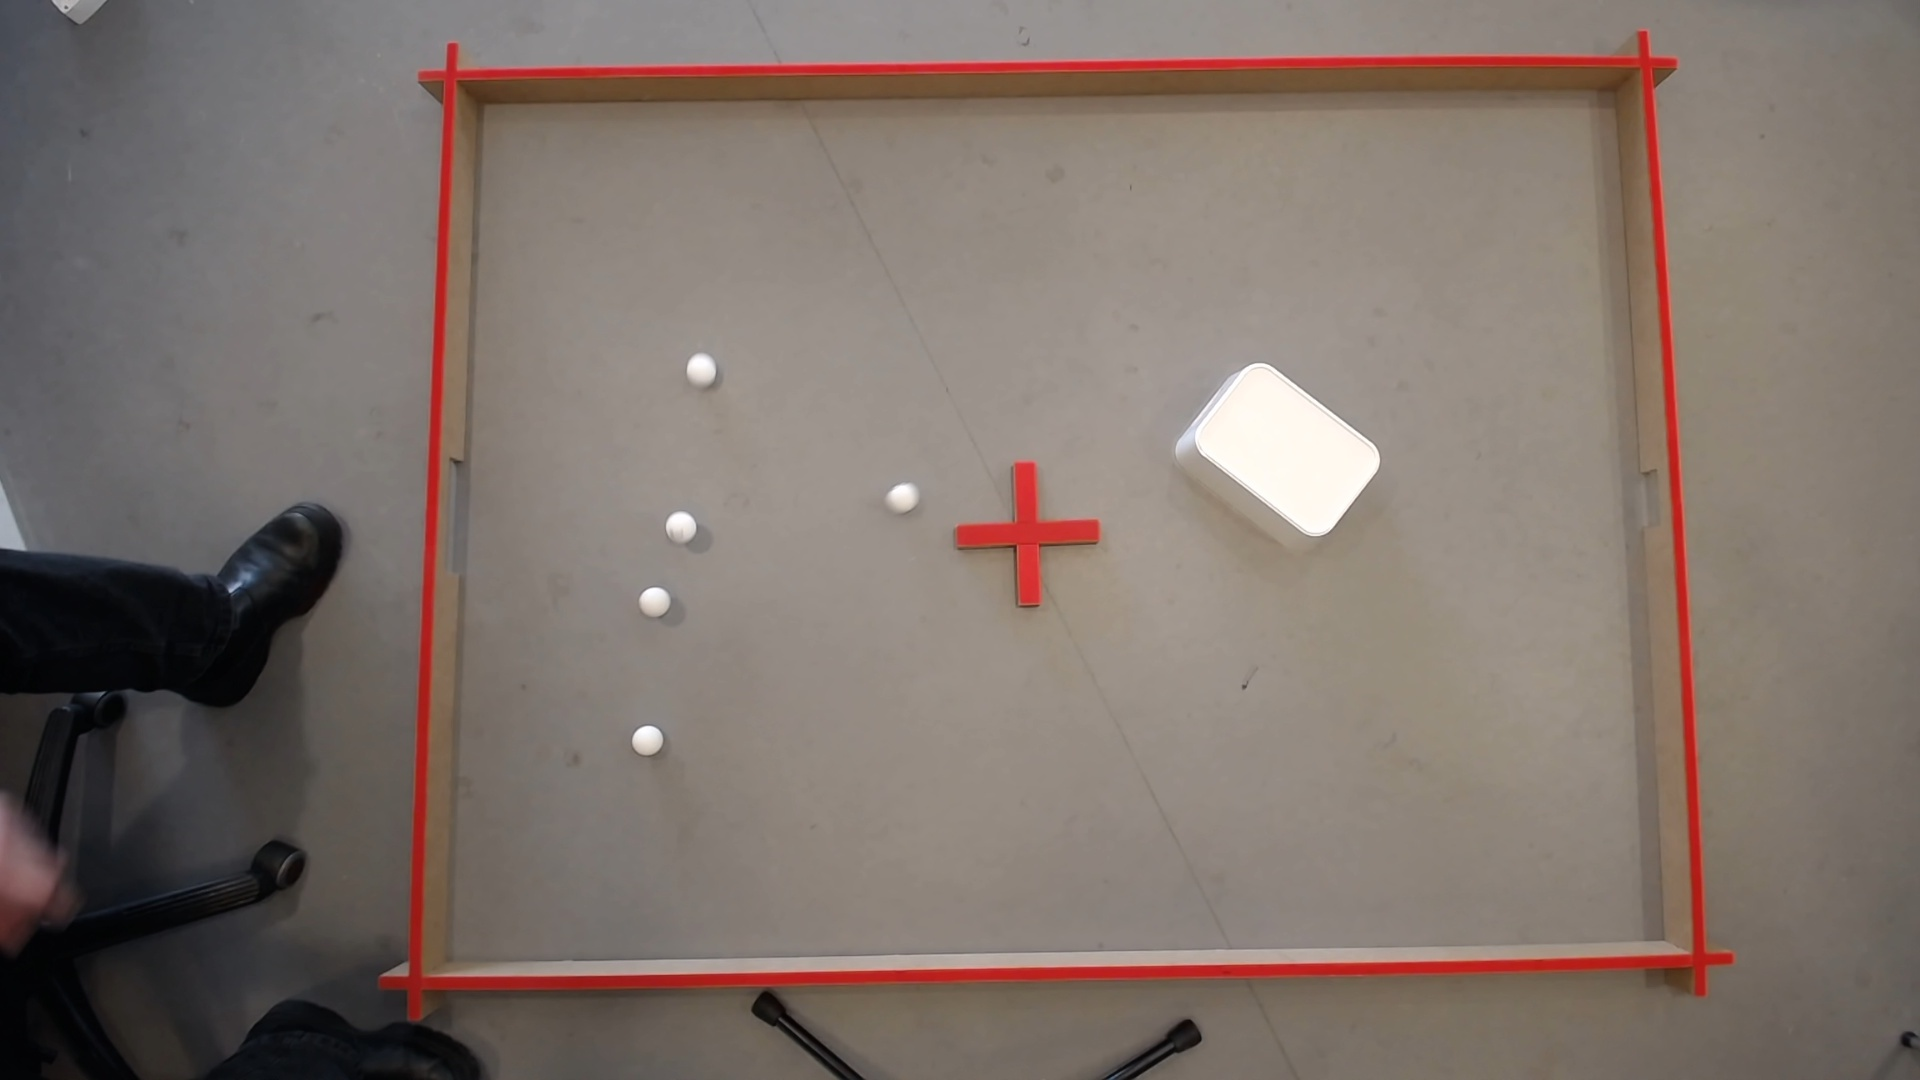balls: (1174, 347, 1389, 551), (683, 348, 720, 385), (662, 506, 699, 538), (629, 720, 663, 753), (636, 582, 669, 612)
car: (889, 484, 915, 505)
